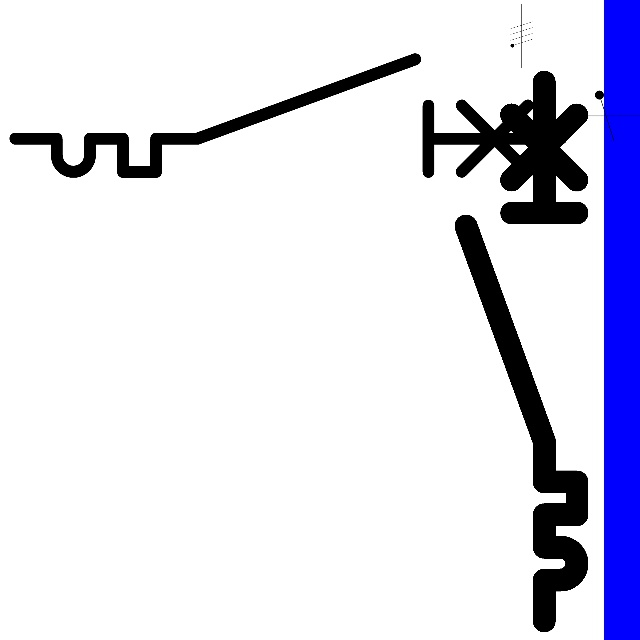interruptor_termomagnetico: (1, 45, 575, 186), (452, 68, 591, 635)
